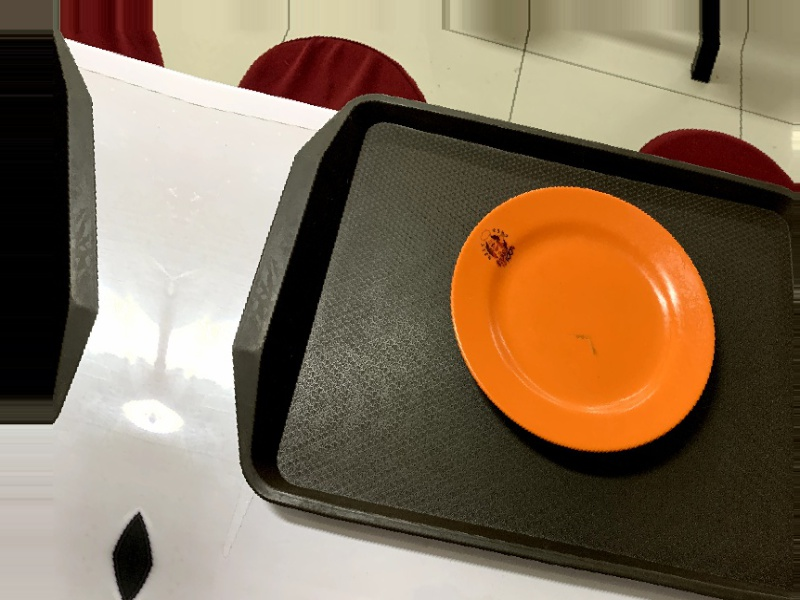dish10: (427, 151, 740, 491)
